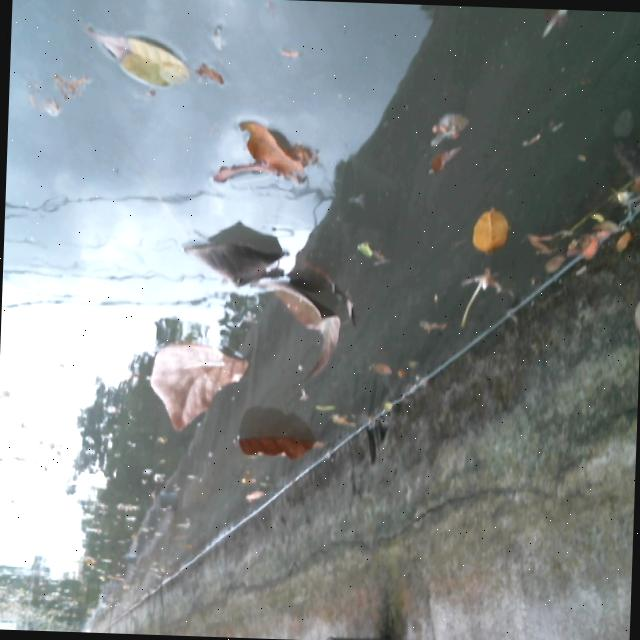Big-leaf: (168, 227, 361, 383), (124, 318, 251, 438), (201, 94, 339, 202), (224, 415, 323, 482)
Small-leaf: (87, 11, 201, 96), (417, 68, 479, 200), (331, 352, 417, 434), (464, 194, 519, 252)
